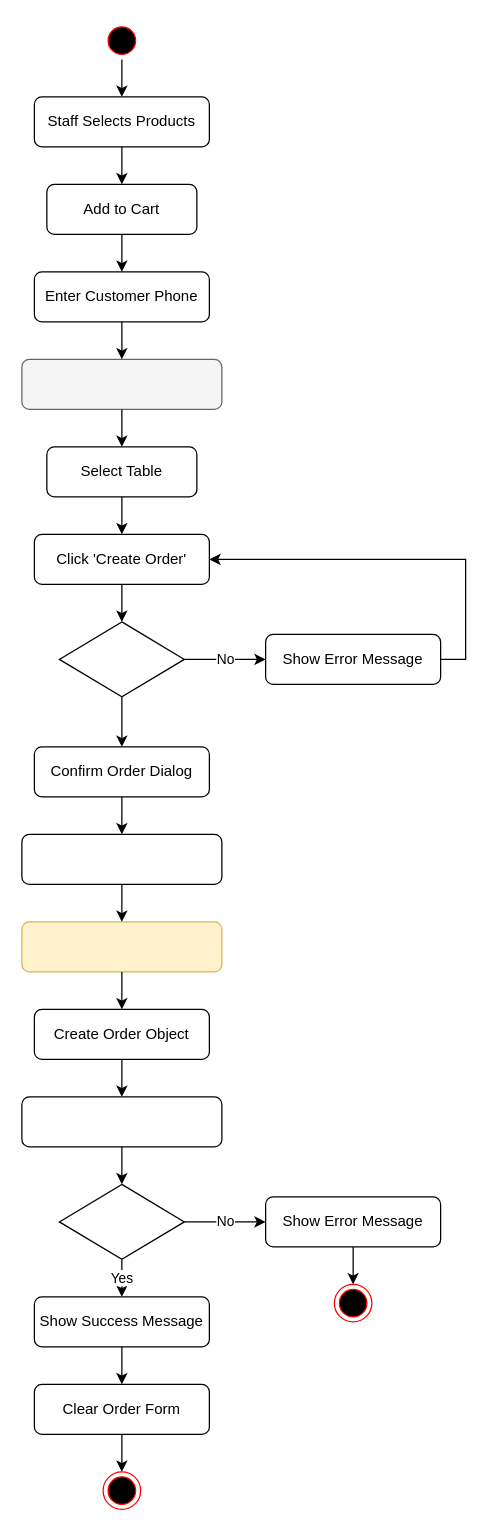
The diagram is 498 pixels wide and 1531 high, and some of its shapes have lost their labels. Here are the shapes that lost their labels. From the top down, the centre of each, then its label:
At point 121,383: "Lookup Customer & Get Discount %".
At point 121,659: "Inputs Valid?".
At point 121,858: "Get/Create Customer (Dialog if New)".
At point 121,946: "Update Customer Points (+10)".
At point 121,1121: "Save Order (AppOrderDao)".
At point 121,1221: "Save Successful?".
